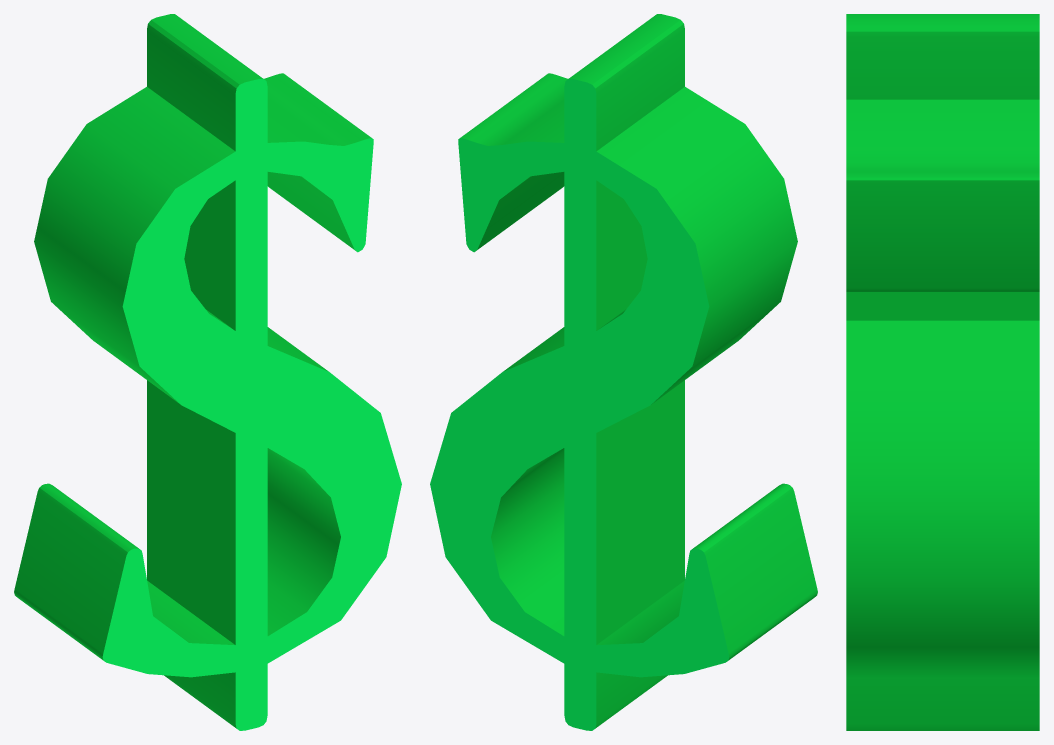
File: symbol$_Soul_Green.glb
3 renders of one model, left to right at view 1: azimuth 30°, elevation 25°; view 2: azimuth 150°, elevation 25°; view 3: azimuth 270°, elevation 25°, orthographic. The views are drawn at different scales.
Visible parts, largest first — view 1: $_Soul_Green; view 2: $_Soul_Green; view 3: $_Soul_Green.
Boxes of the visible parts, x1=… form: $_Soul_Green: x1=14, y1=14, x2=401, y2=730; $_Soul_Green: x1=430, y1=14, x2=817, y2=730; $_Soul_Green: x1=846, y1=14, x2=1039, y2=730.
Size of what is drawn, in the model's own units: 0.0878 by 0.1816 by 0.045.
2 materials, 2 textured.
